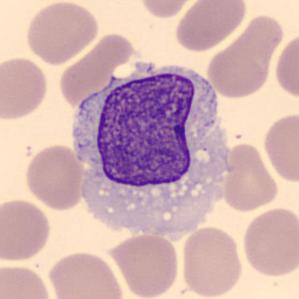Monocyte: (64, 54, 232, 238)
RBC: (204, 13, 280, 99), (22, 0, 102, 66), (105, 231, 182, 299), (62, 32, 130, 106), (179, 225, 245, 298), (22, 142, 87, 211), (220, 141, 281, 213), (240, 205, 297, 279), (44, 248, 125, 299), (172, 0, 248, 53), (0, 196, 53, 264), (0, 54, 50, 123), (261, 110, 298, 185), (0, 261, 54, 299), (272, 29, 299, 102), (136, 0, 200, 20)
